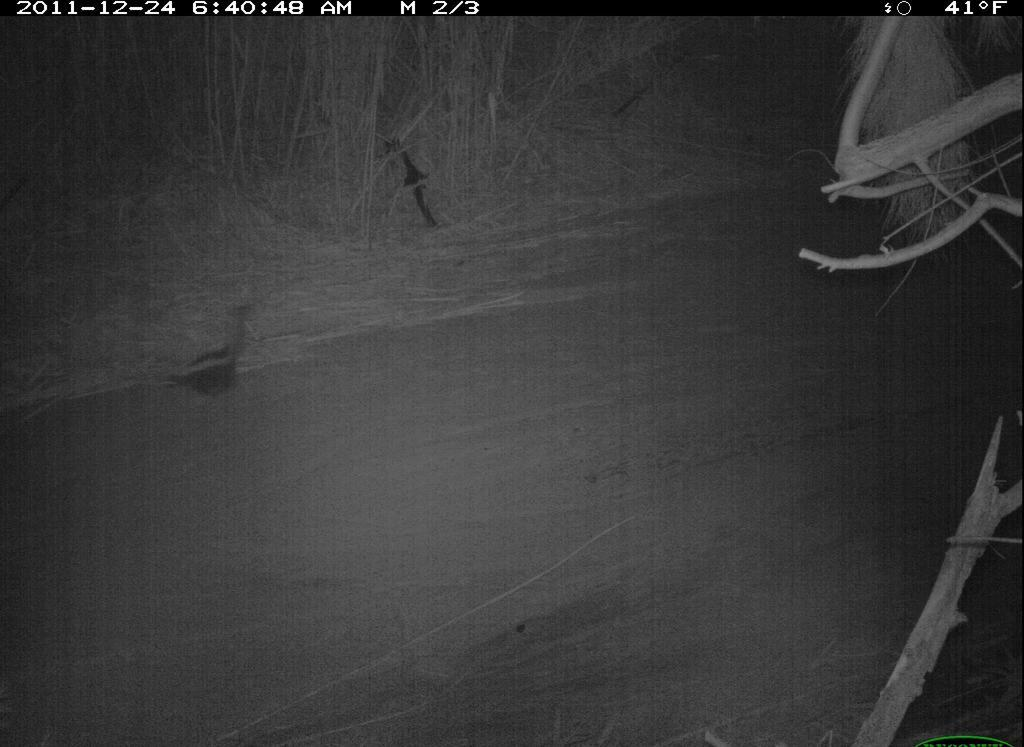skunk: (144, 299, 278, 408)
